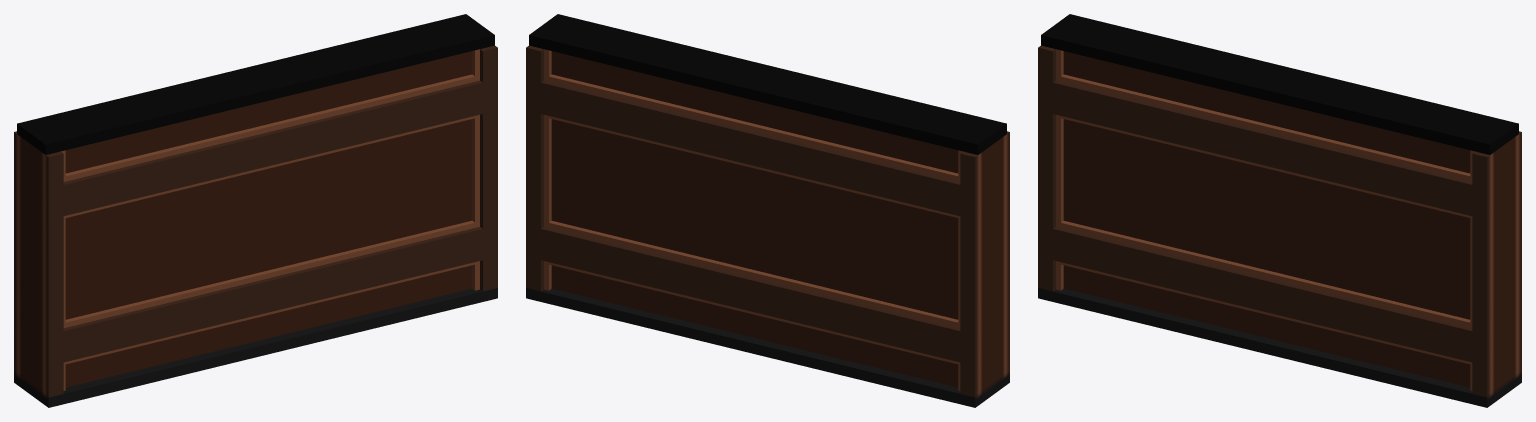
The model's file is Wall-Wood-Model-10.fbx.
3 views of the same model, side by side, from view 1: azimuth 30°, elevation 25°; view 2: azimuth 150°, elevation 25°; view 3: azimuth 330°, elevation 25° (orthographic).
Parts seen in each view (by area): view 1: Wall-Wood-Model-10; view 2: Wall-Wood-Model-10; view 3: Wall-Wood-Model-10.
Part boxes in pixels (left/top/right/bottom): Wall-Wood-Model-10: left=14, top=14, right=497, bottom=407; Wall-Wood-Model-10: left=526, top=14, right=1009, bottom=407; Wall-Wood-Model-10: left=1038, top=14, right=1521, bottom=407.
Bounding box in the file's own units: 90 × 50 × 12.
Materials: 1 (1 with a texture image).
